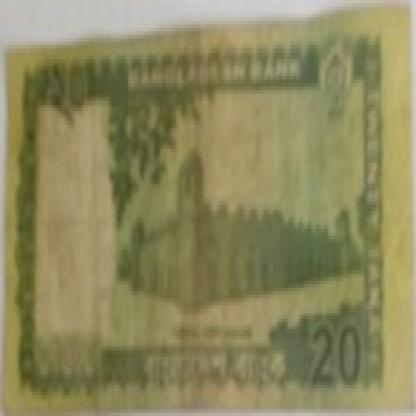Twenty: (306, 312, 368, 392), (46, 59, 86, 128)
